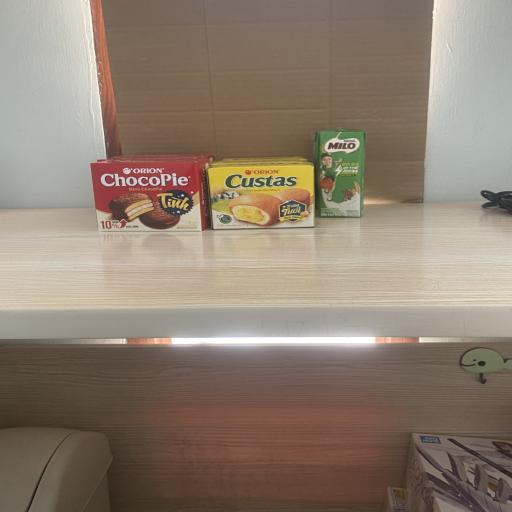chocopie: (90, 153, 216, 231)
custas: (208, 157, 316, 230)
milo: (311, 130, 367, 217)
